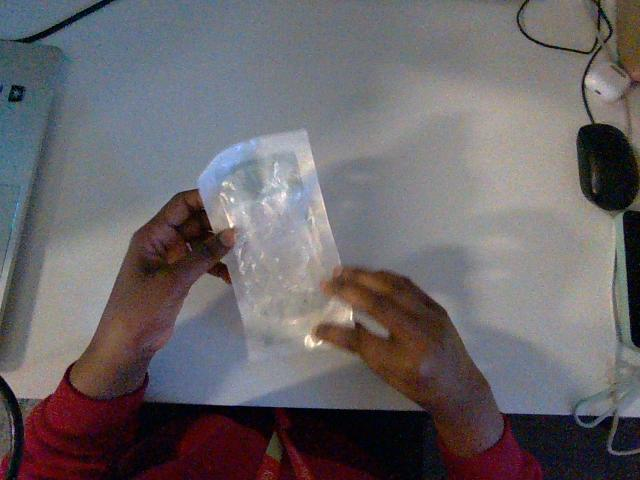gallipot: (198, 131, 352, 357)
